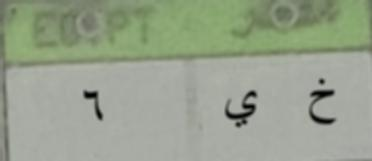6: (80, 87, 108, 125)
khaa: (302, 74, 340, 134)
yaa: (220, 87, 260, 131)
